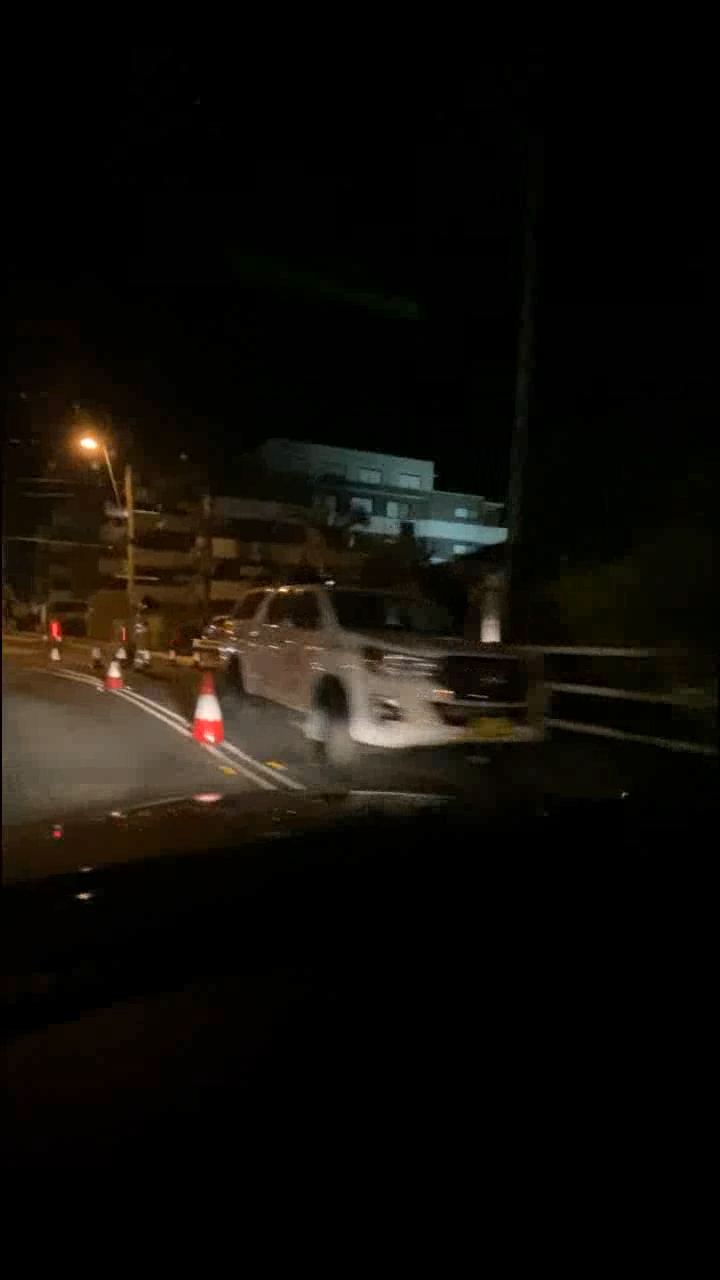road cone: (194, 668, 222, 748), (99, 655, 133, 697), (39, 646, 68, 668)
